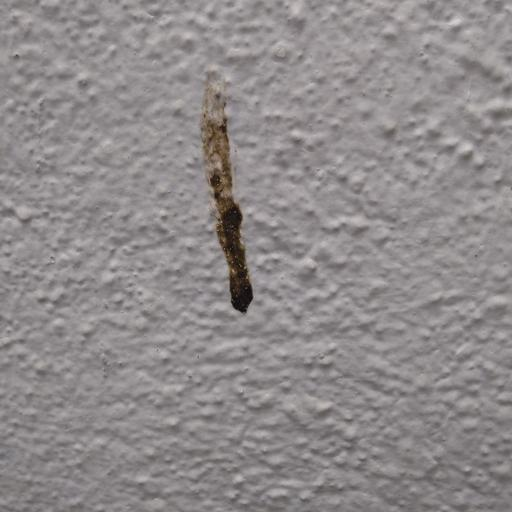stain: (175, 49, 282, 334)
